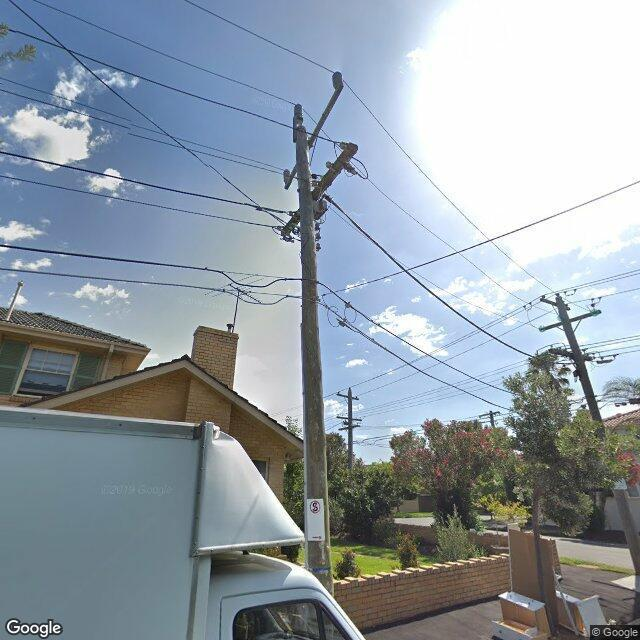HV-transmission: (294, 104, 334, 598), (282, 71, 346, 189), (336, 386, 358, 401)
crossarm: (276, 139, 369, 243), (286, 85, 346, 190), (539, 310, 602, 332), (548, 344, 596, 362), (539, 296, 570, 310), (336, 416, 362, 422), (479, 411, 500, 418), (338, 424, 361, 430), (337, 394, 359, 400)
timber-pole: (556, 296, 602, 422), (348, 390, 352, 470), (489, 410, 495, 428)
